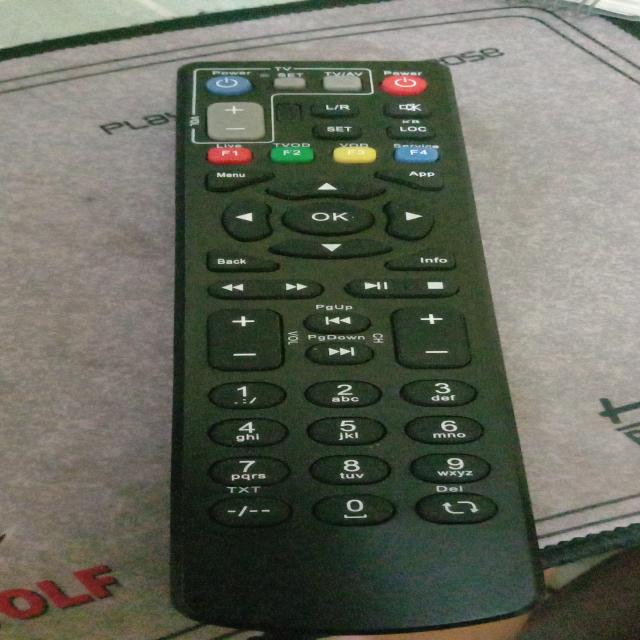remote: (158, 57, 522, 632)
